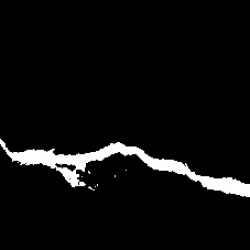crack: (1, 138, 248, 199)
